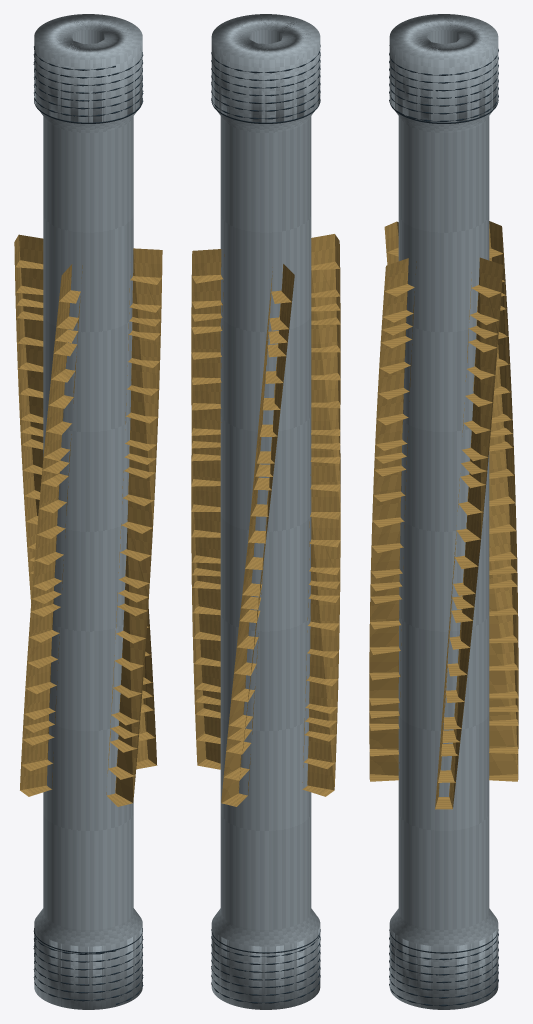
Rendered from hole-opener.glb.
3 views of the same model, side by side, from view 1: azimuth 30°, elevation 25°; view 2: azimuth 150°, elevation 25°; view 3: azimuth 270°, elevation 25° (orthographic).
Parts seen in each view (by area): view 1: tool-housing (×3), stabilizer-blades (×3), uphole-connection (×2), downhole-connection (×2); view 2: tool-housing (×3), stabilizer-blades (×3), uphole-connection (×2), downhole-connection (×2); view 3: tool-housing (×3), stabilizer-blades (×3), downhole-connection (×2), uphole-connection (×2).
Part boxes in pixels (left/top/right/bottom): tool-housing (×3): left=34, top=14, right=142, bottom=1009; stabilizer-blades (×3): left=14, top=234, right=162, bottom=806; uphole-connection (×2): left=33, top=39, right=143, bottom=123; downhole-connection (×2): left=33, top=918, right=143, bottom=1009; tool-housing (×3): left=211, top=14, right=320, bottom=1009; stabilizer-blades (×3): left=191, top=234, right=340, bottom=806; uphole-connection (×2): left=211, top=40, right=320, bottom=123; downhole-connection (×2): left=211, top=927, right=320, bottom=1009; tool-housing (×3): left=389, top=14, right=498, bottom=1009; stabilizer-blades (×3): left=369, top=221, right=518, bottom=809; downhole-connection (×2): left=389, top=929, right=498, bottom=1009; uphole-connection (×2): left=389, top=43, right=498, bottom=123.
Size of the model in its own units: 0.2137 by 1.5 by 0.2137.
3 materials, 3 textured.
